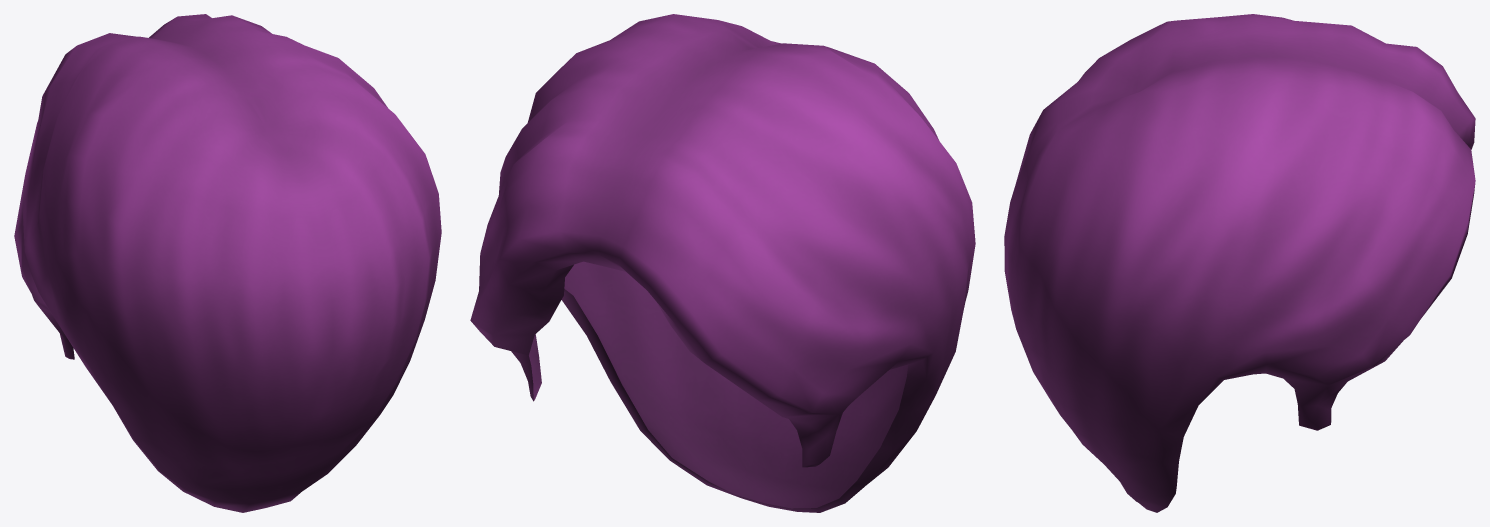
Rendered from Hair_Male_003_textured_purple.glb.
3 renders of one model, left to right at view 1: azimuth 30°, elevation 25°; view 2: azimuth 150°, elevation 25°; view 3: azimuth 270°, elevation 25°, orthographic. The views are drawn at different scales.
Parts seen in each view (by area): view 1: Hair_Male_003; view 2: Hair_Male_003; view 3: Hair_Male_003.
Boxes of the visible parts, left/top/right/bottom form: Hair_Male_003: left=14, top=14, right=441, bottom=512; Hair_Male_003: left=470, top=14, right=975, bottom=512; Hair_Male_003: left=1004, top=14, right=1475, bottom=512.
Bounding box in the file's own units: 0.2155 × 0.2438 × 0.2307.
Materials: 1 (1 with a texture image).
